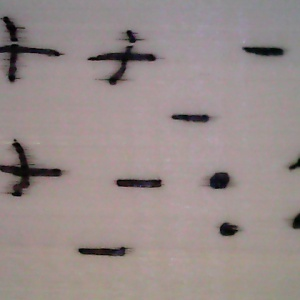3dpdot: (201, 159, 245, 201), (204, 211, 247, 238), (278, 207, 300, 231), (279, 155, 300, 173)
3dpminus: (73, 239, 138, 269), (111, 171, 171, 196), (238, 42, 291, 68), (166, 109, 219, 130)
3dpplus: (86, 28, 173, 95), (1, 14, 66, 90), (1, 136, 69, 204)
